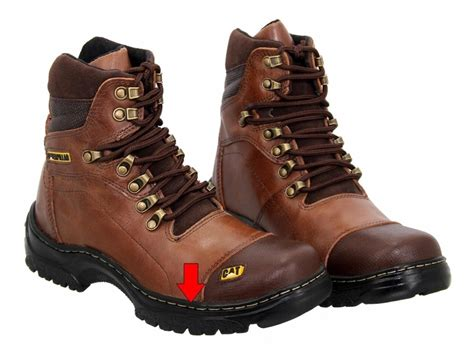cuero: (33, 19, 447, 311)
